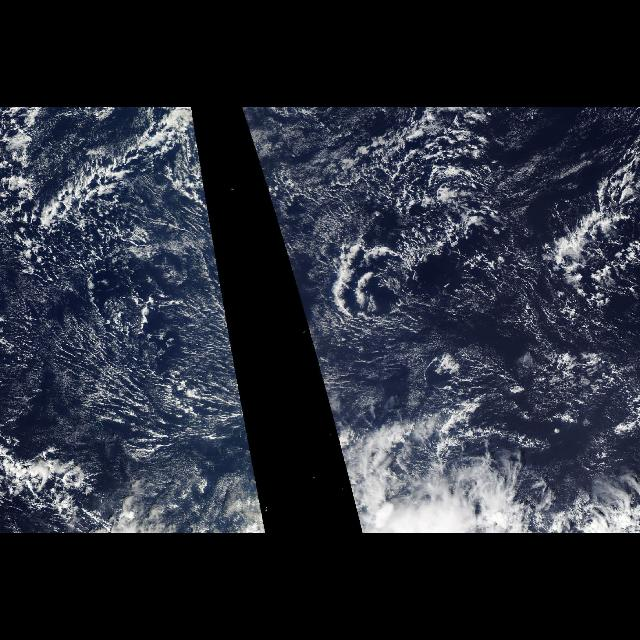Fish: (242, 115, 632, 333), (7, 115, 229, 333)
Gravel: (290, 124, 534, 330), (0, 108, 220, 274)
Sugar: (7, 290, 251, 444)
